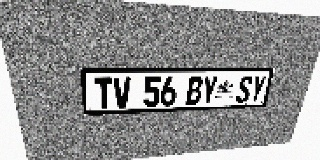5: (144, 77, 161, 107)
6: (160, 77, 177, 106)
B: (186, 76, 203, 105)
S: (235, 76, 254, 103)
T: (94, 77, 113, 109)
V: (113, 77, 131, 108)
Y: (200, 76, 218, 104), (248, 76, 267, 102)
